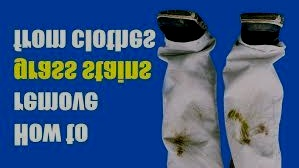earth: (173, 136, 189, 156), (239, 121, 248, 145), (256, 125, 268, 136), (228, 111, 242, 120)
